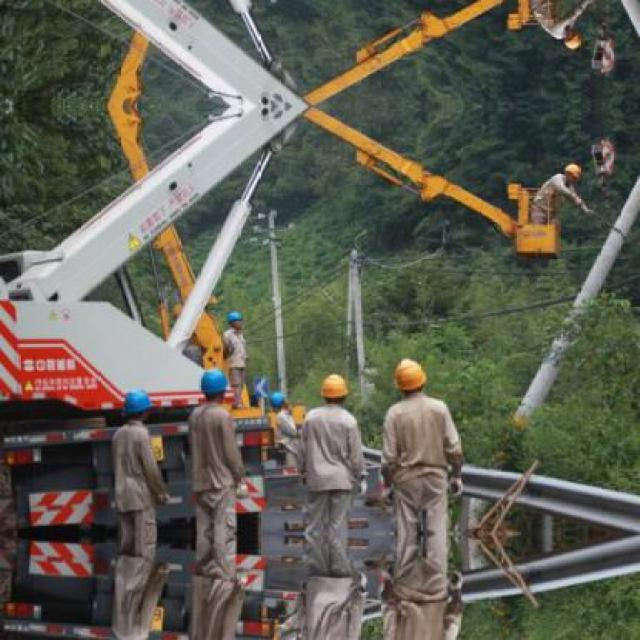helmet: (389, 355, 429, 396), (118, 386, 156, 424), (314, 372, 351, 410), (198, 366, 230, 404), (266, 389, 294, 411), (226, 306, 246, 328), (563, 159, 582, 182), (563, 30, 582, 53)
